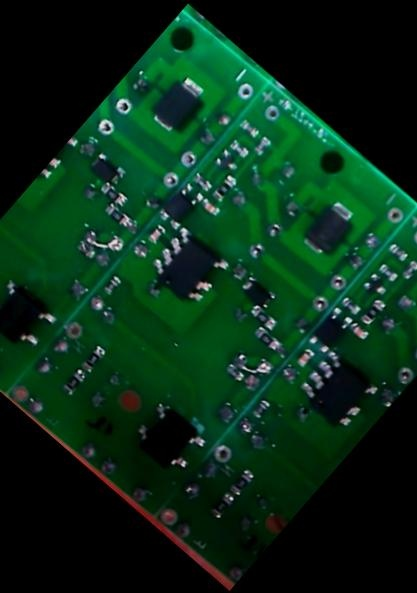chip-capacitor: (145, 220, 169, 245), (346, 318, 370, 342), (293, 344, 316, 368), (198, 195, 221, 216)
chip-resistor: (102, 199, 135, 231), (78, 340, 110, 373), (247, 301, 280, 333), (357, 295, 388, 327), (97, 178, 129, 208), (209, 171, 239, 203), (251, 323, 283, 353), (227, 465, 257, 497), (207, 489, 237, 521), (59, 365, 88, 397), (99, 271, 124, 297), (189, 168, 214, 192), (221, 360, 246, 384), (385, 238, 410, 262), (249, 132, 273, 156), (73, 237, 97, 260), (237, 115, 261, 138), (227, 136, 251, 159), (375, 259, 399, 282), (339, 293, 363, 316), (249, 396, 272, 420), (398, 256, 417, 280)
diode: (145, 69, 212, 138), (297, 194, 362, 261), (85, 148, 128, 190), (237, 272, 278, 310)
ic: (143, 221, 234, 312), (291, 346, 381, 434), (127, 395, 213, 480), (0, 272, 63, 357), (156, 177, 207, 230), (305, 302, 355, 355)
transistor: (210, 145, 243, 177), (359, 269, 392, 301)
